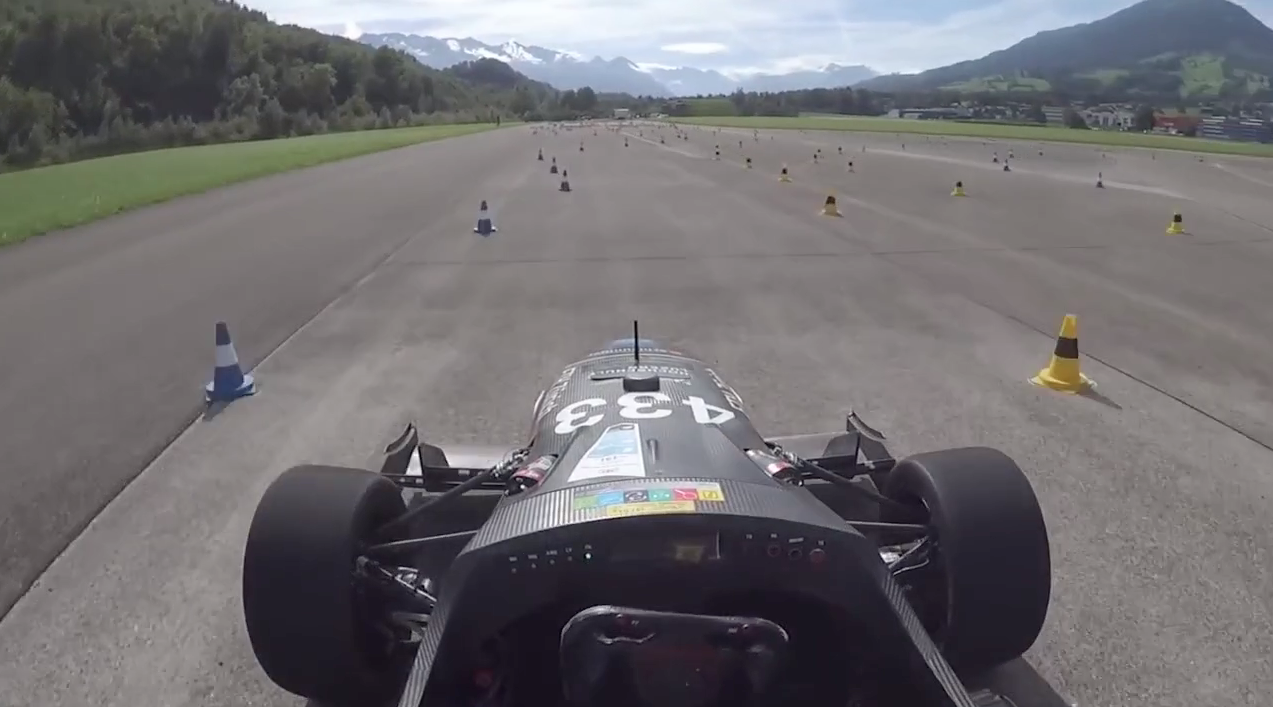lcone: (195, 316, 263, 406), (470, 194, 499, 239), (557, 169, 573, 193)
rcone: (1027, 310, 1100, 399), (814, 181, 845, 221), (1164, 202, 1190, 238)
